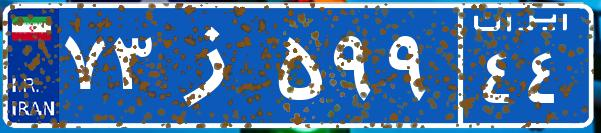3: (110, 28, 158, 105)
4: (475, 38, 525, 113), (525, 38, 570, 115)
5: (273, 28, 330, 110)
7: (57, 26, 110, 107)
9: (385, 28, 445, 110), (330, 28, 385, 110)
ز: (158, 15, 273, 115)
